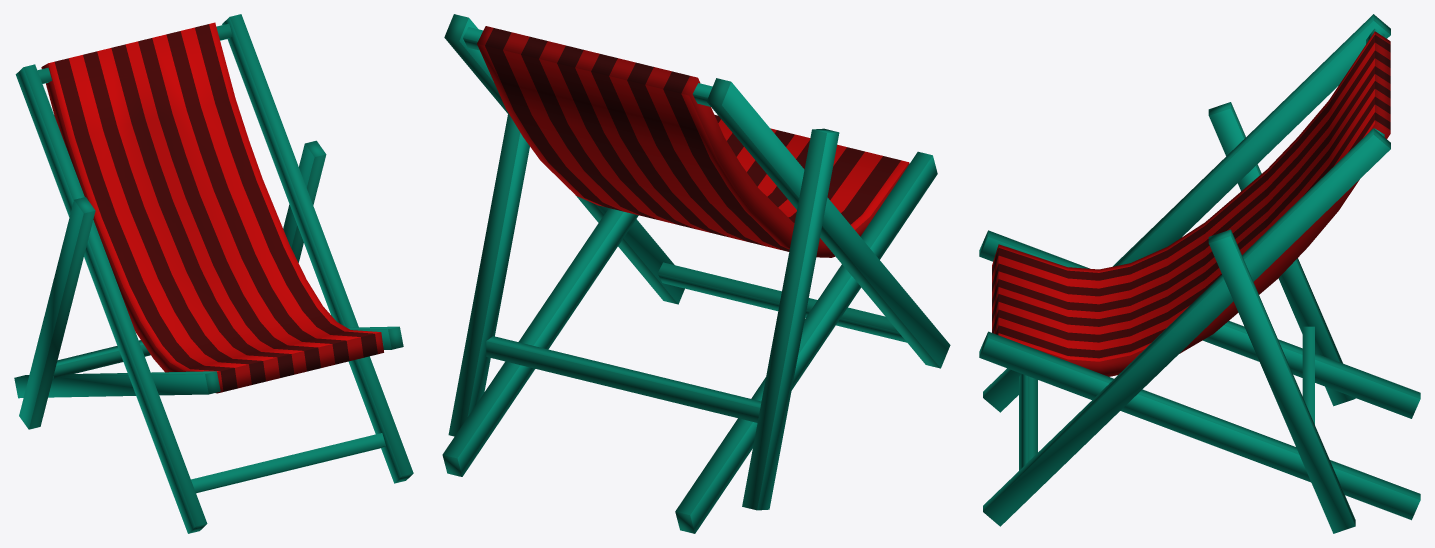
Rendered from furnishings-outdoor-deckchair_v1.fbx.
3 views of the same model, side by side, from view 1: azimuth 30°, elevation 25°; view 2: azimuth 150°, elevation 25°; view 3: azimuth 270°, elevation 25° (orthographic). The views are drawn at different scales.
Parts seen in each view (by area): view 1: DeckChair_color, DeckChair_base; view 2: DeckChair_base, DeckChair_color; view 3: DeckChair_base, DeckChair_color.
Part boxes in pixels (<box>): DeckChair_color: <box>41,22,383,393</box>; DeckChair_base: <box>14,14,413,533</box>; DeckChair_base: <box>442,14,950,533</box>; DeckChair_color: <box>477,26,909,257</box>; DeckChair_base: <box>979,14,1420,533</box>; DeckChair_color: <box>992,31,1390,376</box>.
Bounding box in the file's own units: 1.43 × 1.95 × 1.98.
